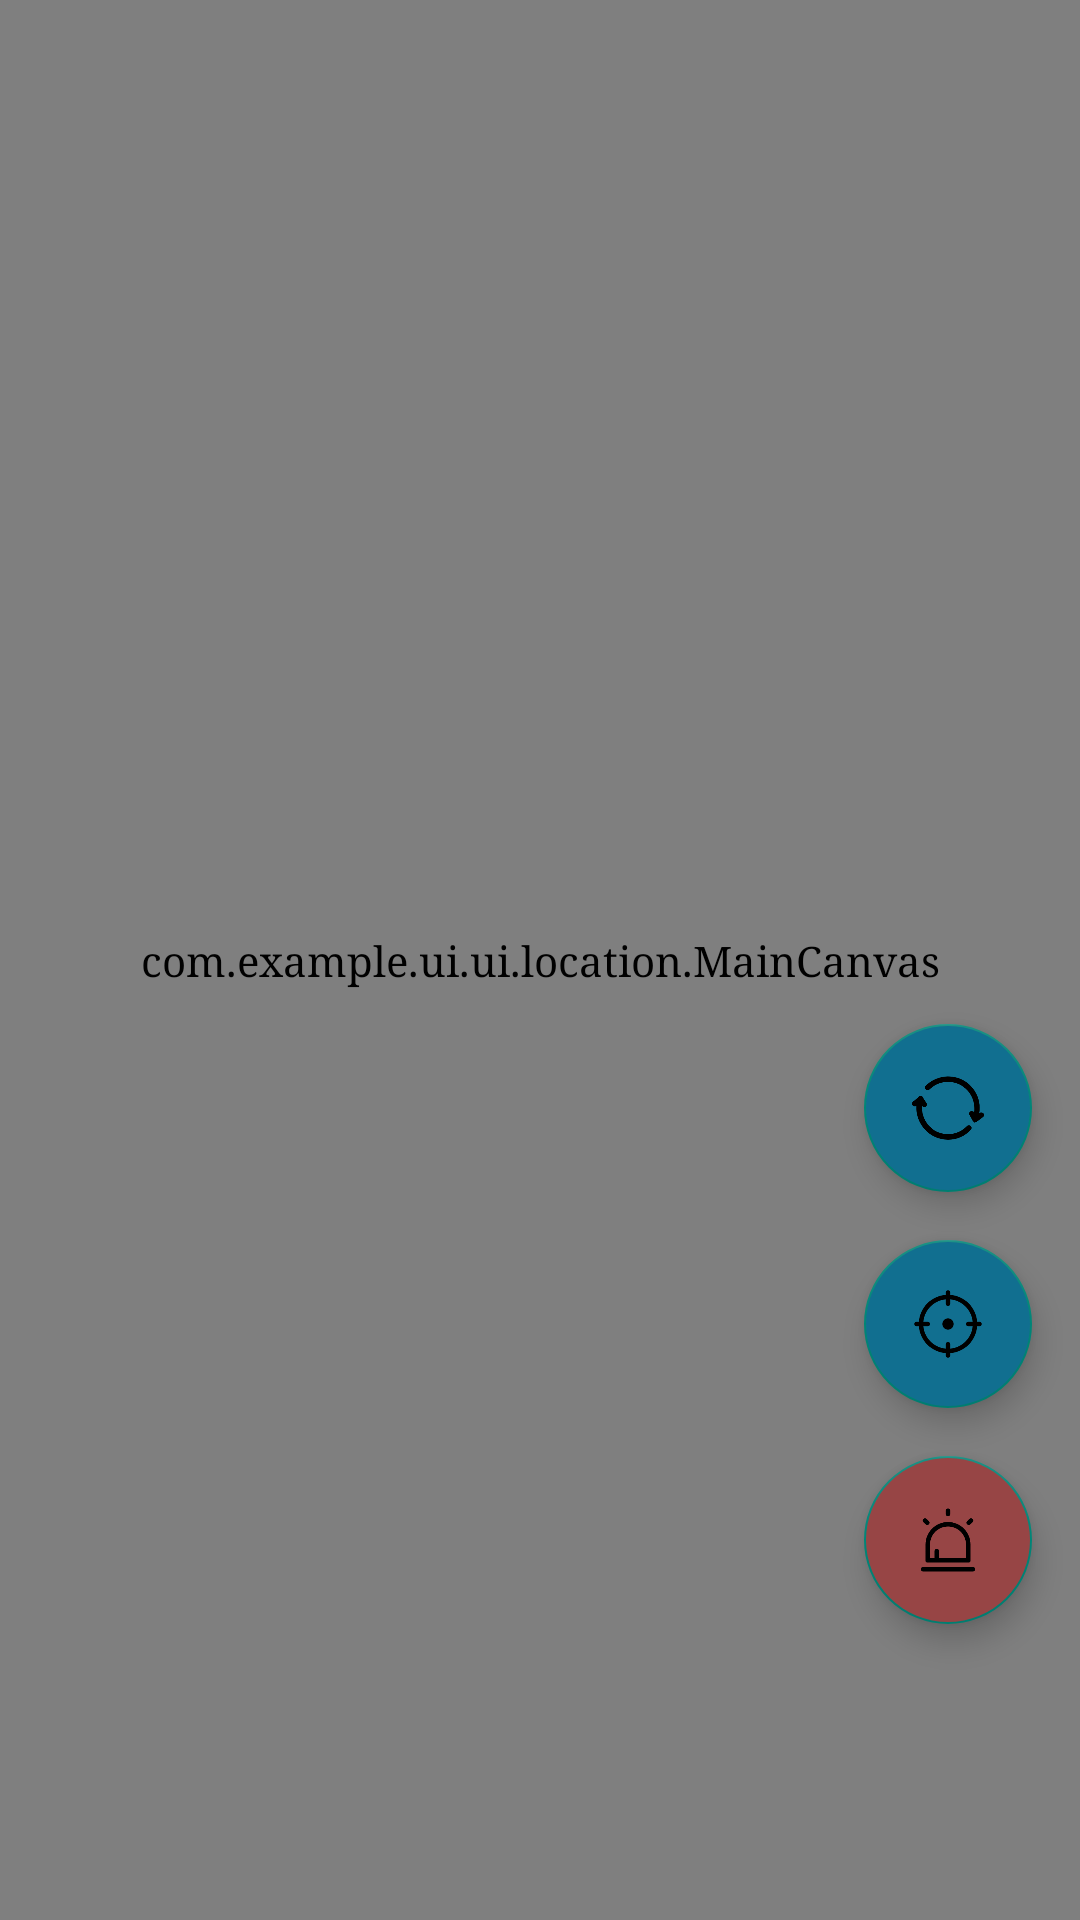

Icons on this 1080x1920 Android screen, each with the point to tap as [x,y]:
reset: [948,1108]
warning: [948,1540]
